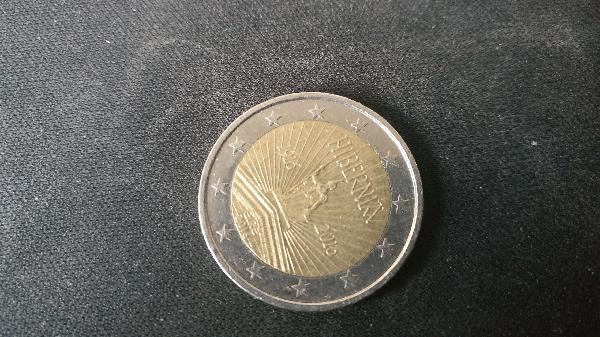Two Euro: (193, 83, 437, 311)
